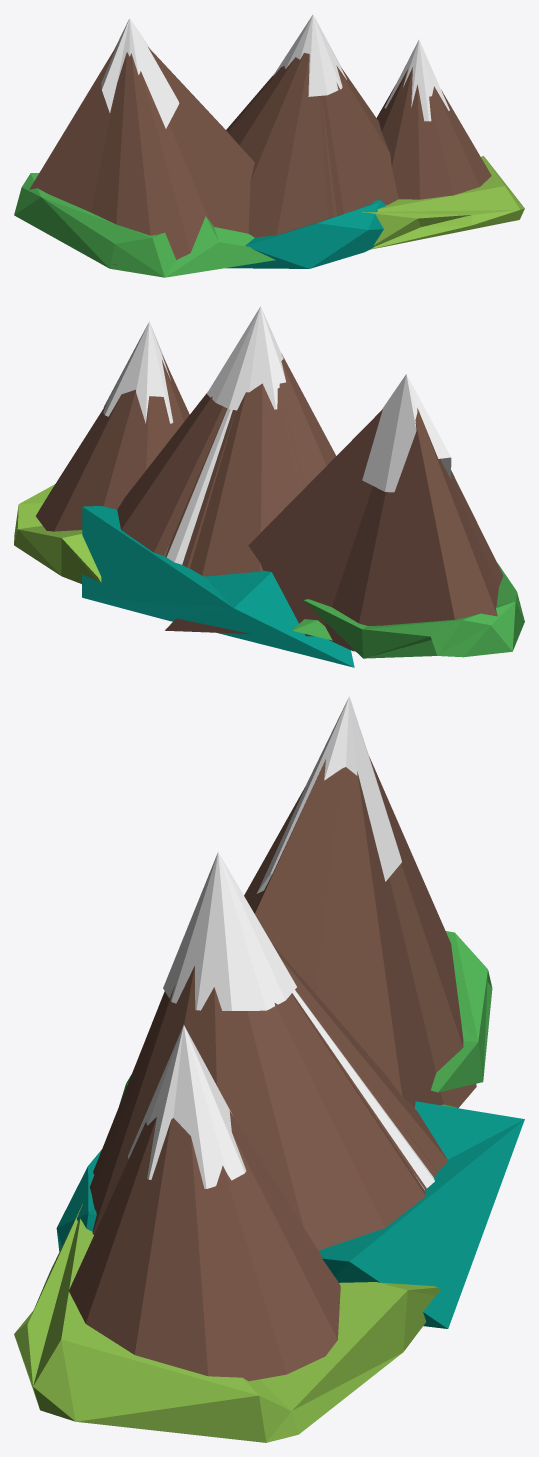
File: montanas2_lev5.glb
3 views of the same model, one above another, from view 1: azimuth 30°, elevation 25°; view 2: azimuth 150°, elevation 25°; view 3: azimuth 270°, elevation 25° (orthographic). The views are drawn at different scales.
Parts seen in each view (by area): view 1: montanas2_lev5; view 2: montanas2_lev5; view 3: montanas2_lev5.
Part boxes in pixels (bbox=[...]): montanas2_lev5: bbox=[14, 14, 524, 277]; montanas2_lev5: bbox=[14, 306, 524, 667]; montanas2_lev5: bbox=[14, 696, 524, 1442].
Bounding box in the file's own units: 117 × 60.94 × 62.15.
